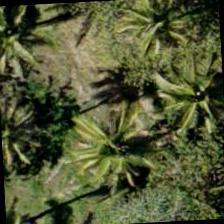Kelapa_Sawit: (69, 105, 164, 200), (112, 0, 206, 65), (164, 59, 223, 154), (0, 85, 54, 178), (0, 3, 54, 95)
